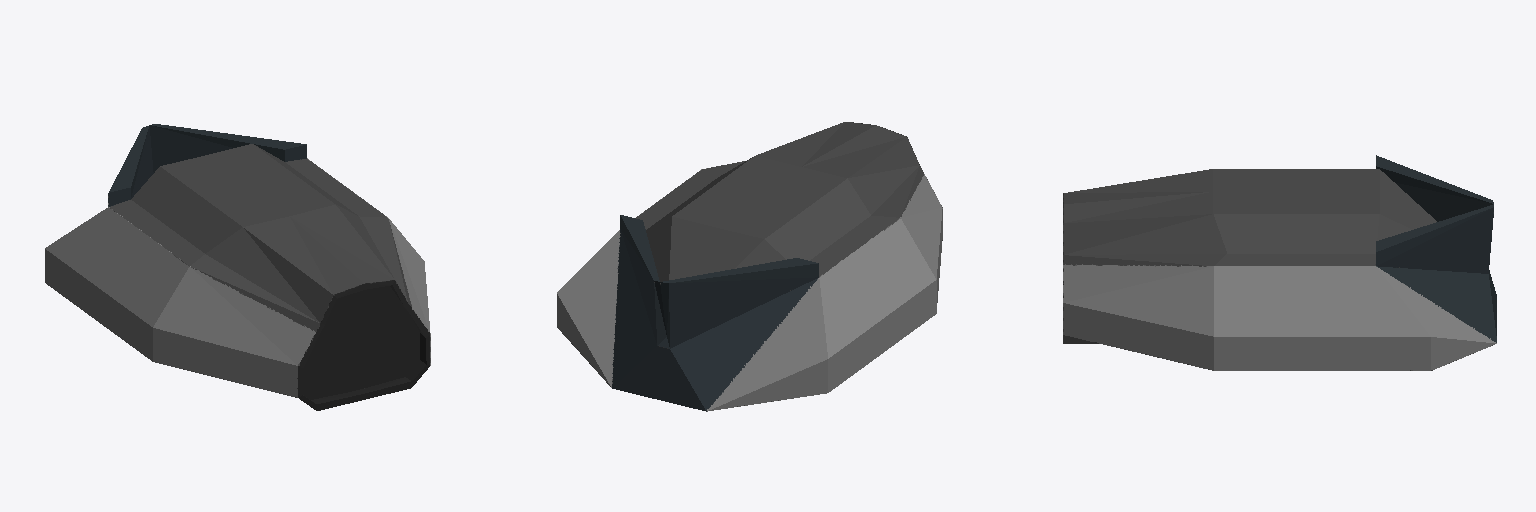
3 views of the same model, side by side, from view 1: azimuth 30°, elevation 25°; view 2: azimuth 150°, elevation 25°; view 3: azimuth 270°, elevation 25° (orthographic).
Parts seen in each view (by area): view 1: Torreta_Cube.007; view 2: Torreta_Cube.007; view 3: Torreta_Cube.007.
Boxes of the visible parts, x1,y1,x2,y2 form: Torreta_Cube.007: [45, 124, 430, 410]; Torreta_Cube.007: [557, 122, 942, 411]; Torreta_Cube.007: [1063, 155, 1496, 370].
Bounding box in the file's own units: 2.4 × 1.09 × 3.33.
Materials: 1 (1 with a texture image).